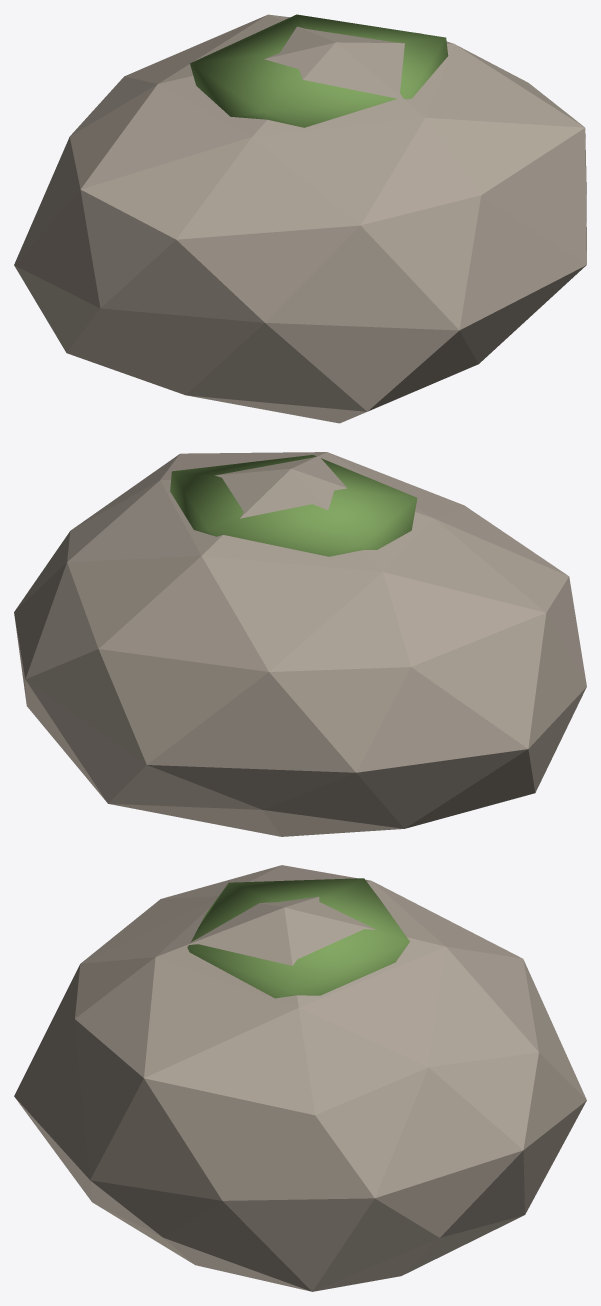
The model's file is hd_boulder_big.gltf.
3 views of the same model, one above another, from view 1: azimuth 30°, elevation 25°; view 2: azimuth 150°, elevation 25°; view 3: azimuth 270°, elevation 25° (orthographic). The views are drawn at different scales.
Visible parts, largest first — view 1: rock, mosscap; view 2: rock, mosscap; view 3: rock, mosscap.
Part boxes in pixels (x1=…): rock: x1=14, y1=14, x2=586, y2=423; mosscap: x1=190, y1=14, x2=448, y2=127; rock: x1=14, y1=452, x2=586, y2=836; mosscap: x1=170, y1=455, x2=417, y2=556; rock: x1=14, y1=865, x2=586, y2=1291; mosscap: x1=187, y1=878, x2=409, y2=998.
Bounding box in the file's own units: 3.14 × 1.92 × 2.95.
